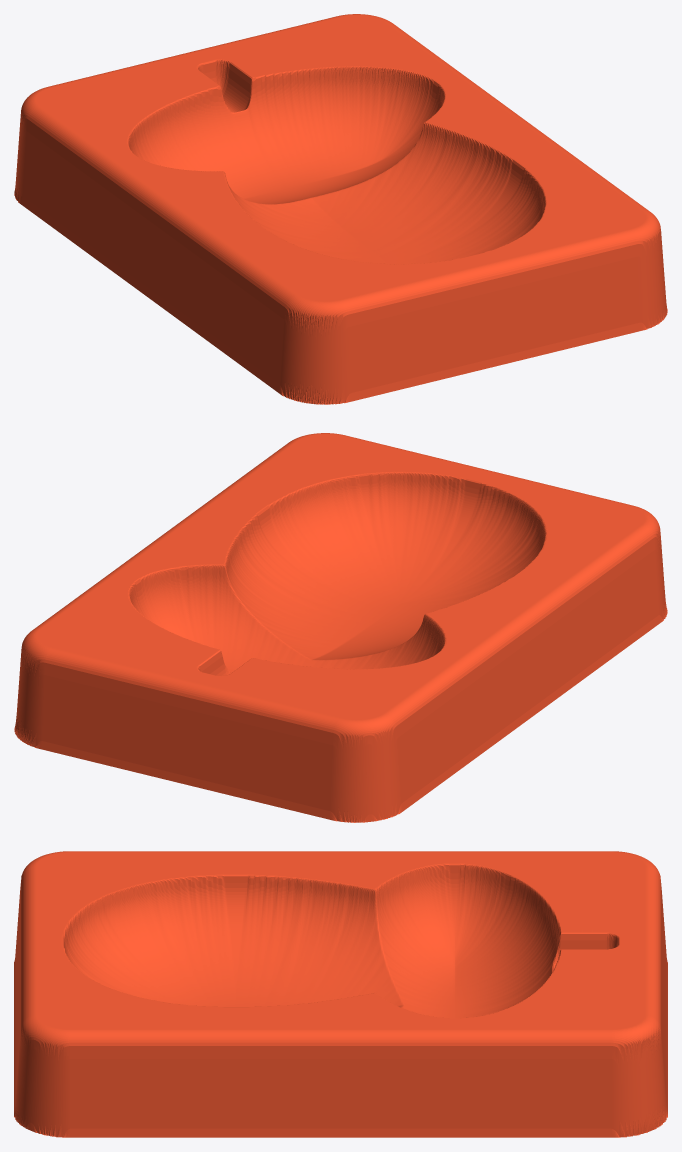
File: mold.glb
3 renders of one model, top to bottom at view 1: azimuth 30°, elevation 25°; view 2: azimuth 150°, elevation 25°; view 3: azimuth 270°, elevation 25°, orthographic. The views are drawn at different scales.
Visible parts, largest first — view 1: geometry_0; view 2: geometry_0; view 3: geometry_0.
Boxes of the visible parts, x1,y1,x2,y2 form: geometry_0: [14, 14, 667, 404]; geometry_0: [14, 433, 667, 822]; geometry_0: [14, 851, 667, 1137].
Bounding box in the file's own units: 0.0744 × 0.0175 × 0.105.
